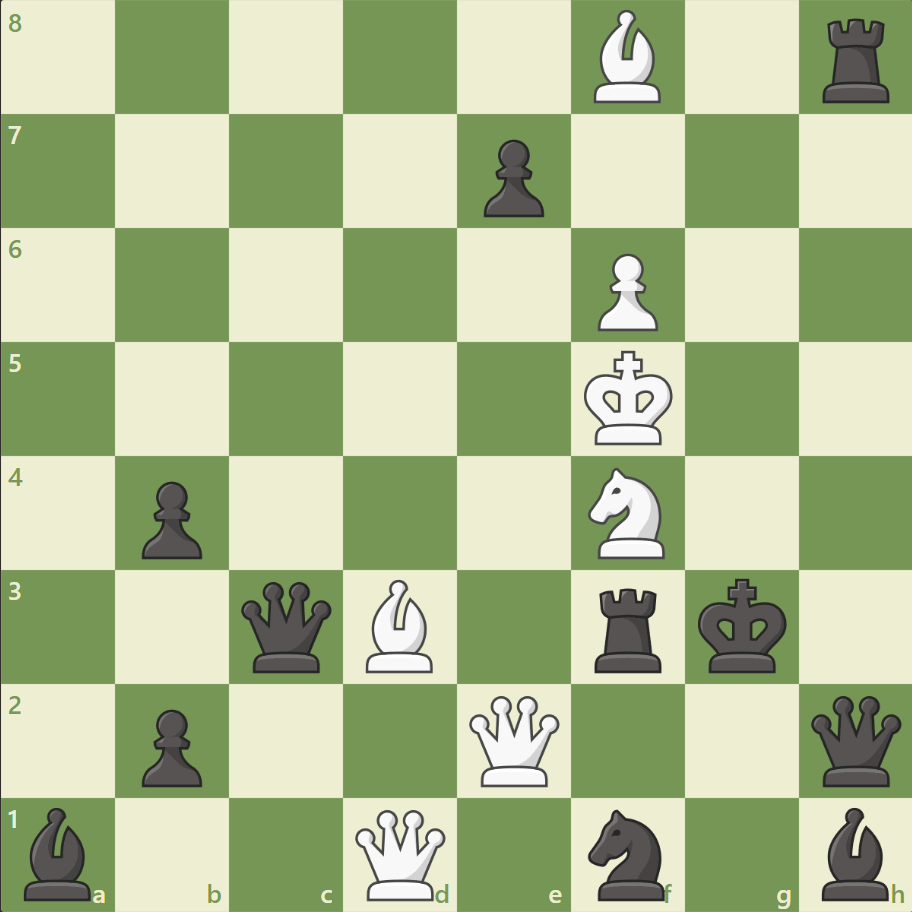B: (585, 6, 669, 109), (358, 574, 442, 676)
K: (579, 344, 679, 452)
N: (579, 461, 676, 564)
P: (588, 246, 662, 337)
Q: (464, 690, 563, 789), (351, 804, 450, 903)
b: (17, 801, 101, 904), (812, 801, 896, 904)
k: (692, 571, 792, 679)
n: (579, 802, 676, 904)
p: (474, 132, 549, 223), (133, 473, 208, 564), (133, 700, 208, 791)
q: (237, 576, 336, 676), (805, 690, 904, 789)
r: (814, 12, 897, 109), (587, 579, 670, 676)
